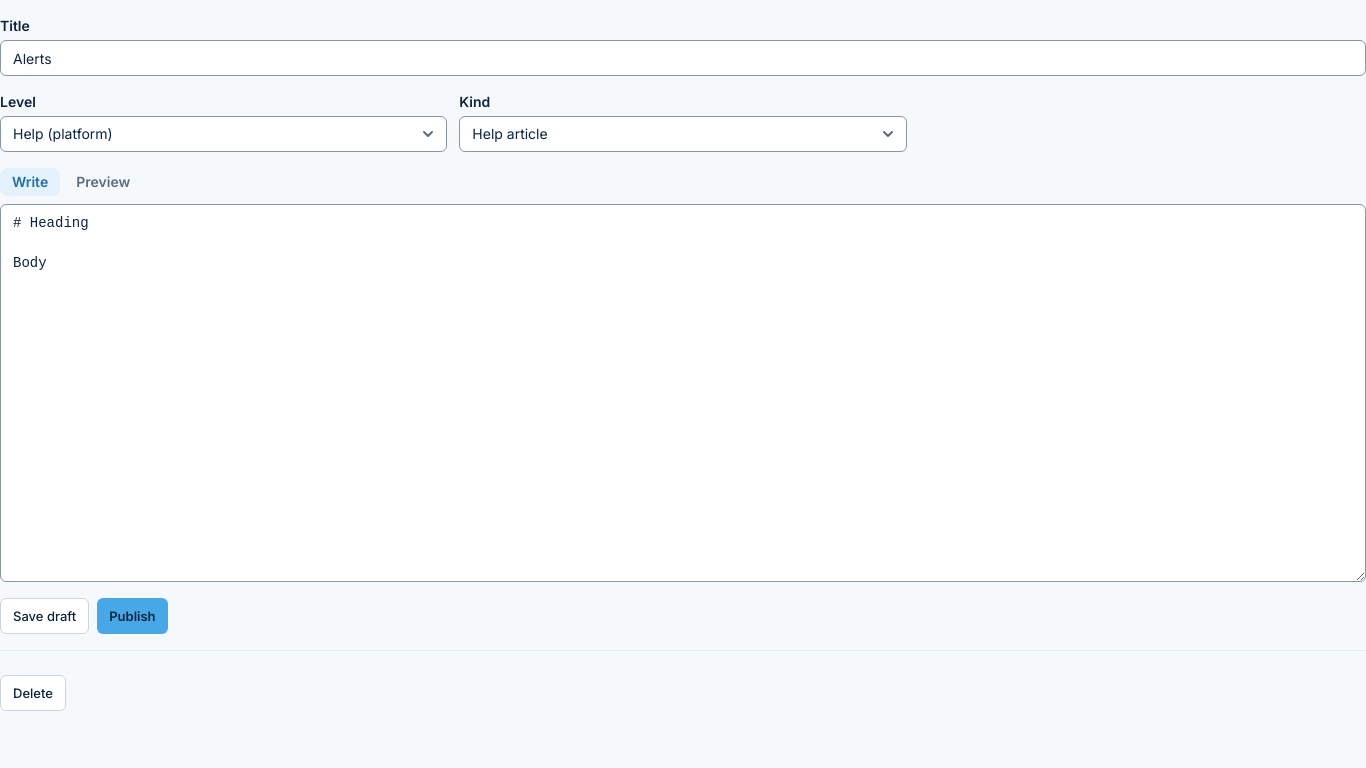
Test: KbEditor › delete needs a confirm step
Click the button "Delete": (33, 693) [0,675,66,711]
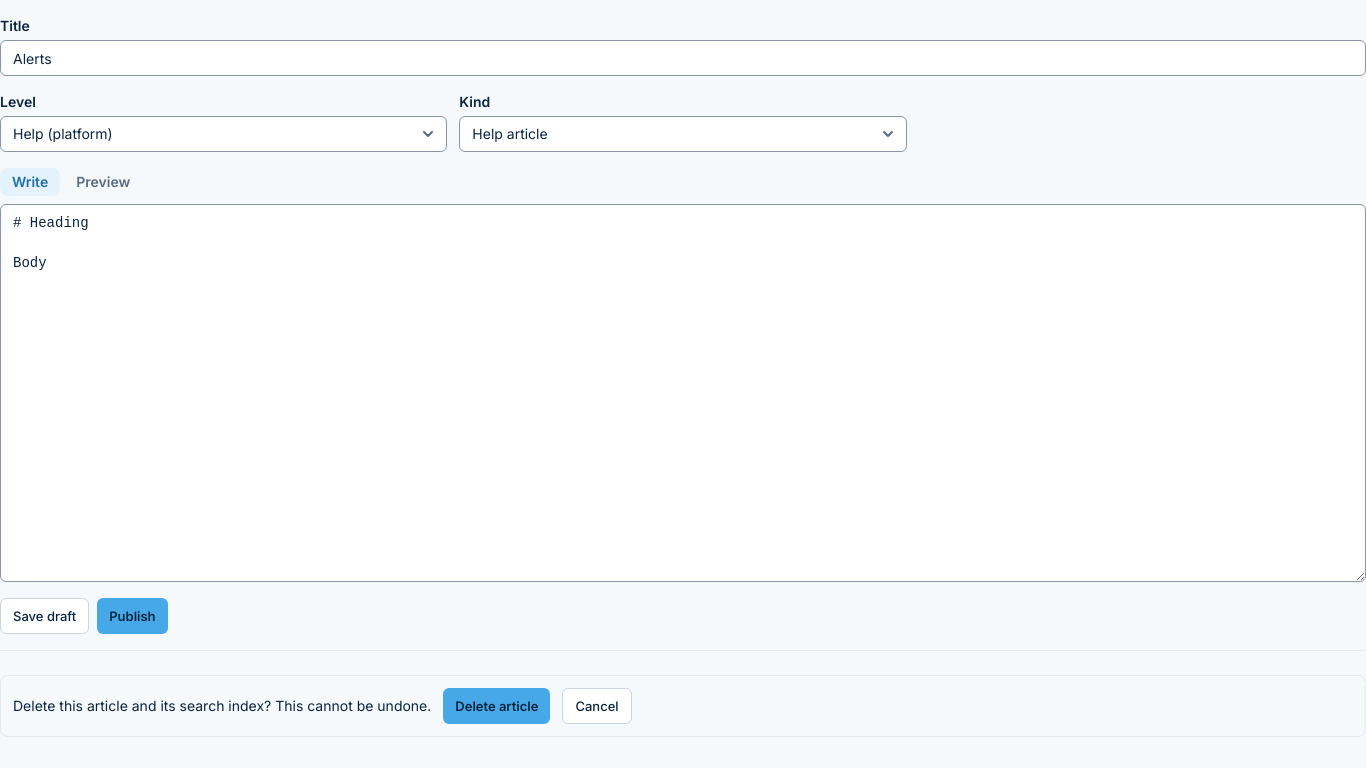
Now the dialog is shown, box [0,675,1365,737]
Now the button "Delete article" is shown, box [443,688,550,724]
